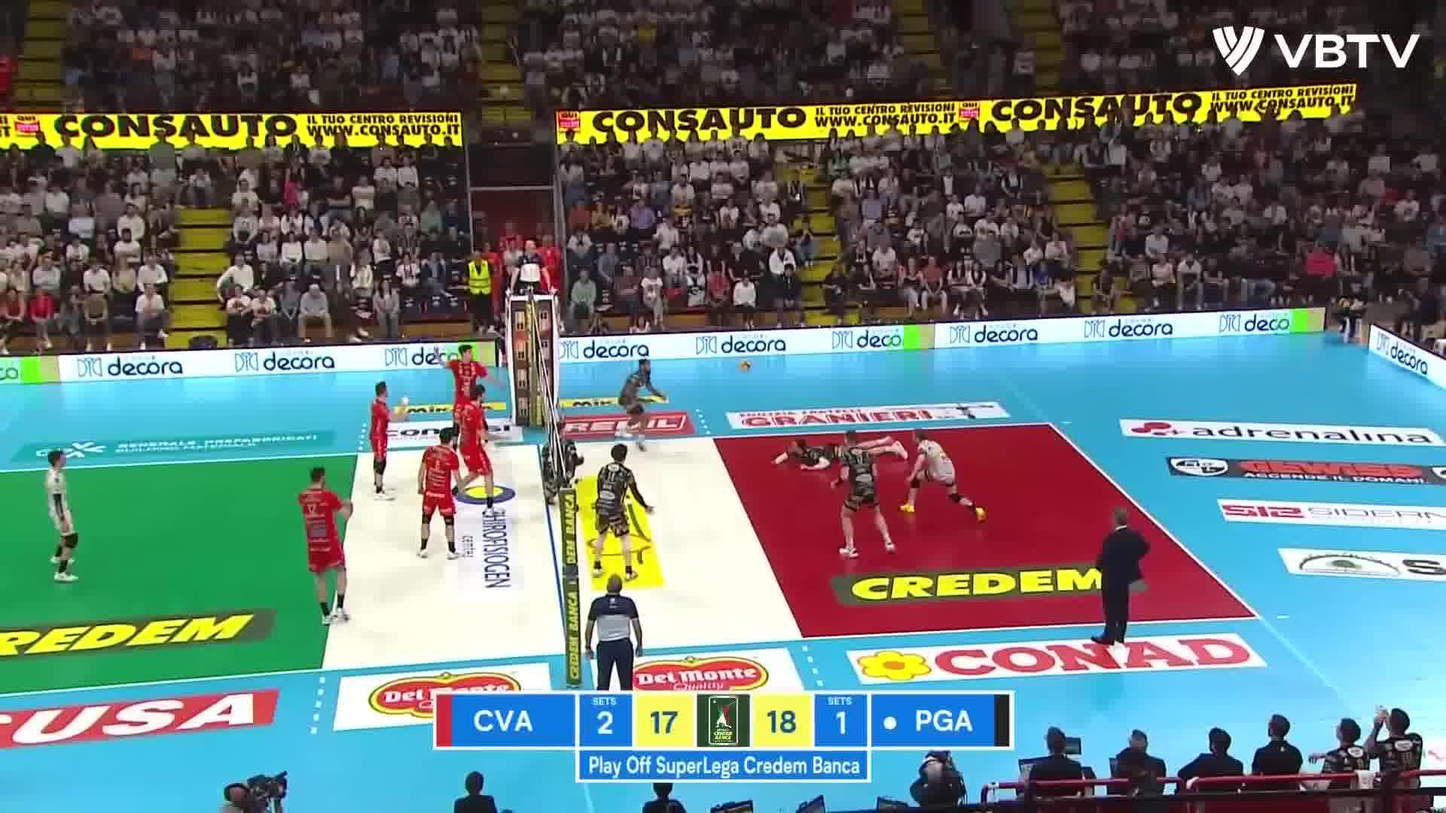balls: (737, 355, 754, 376)
